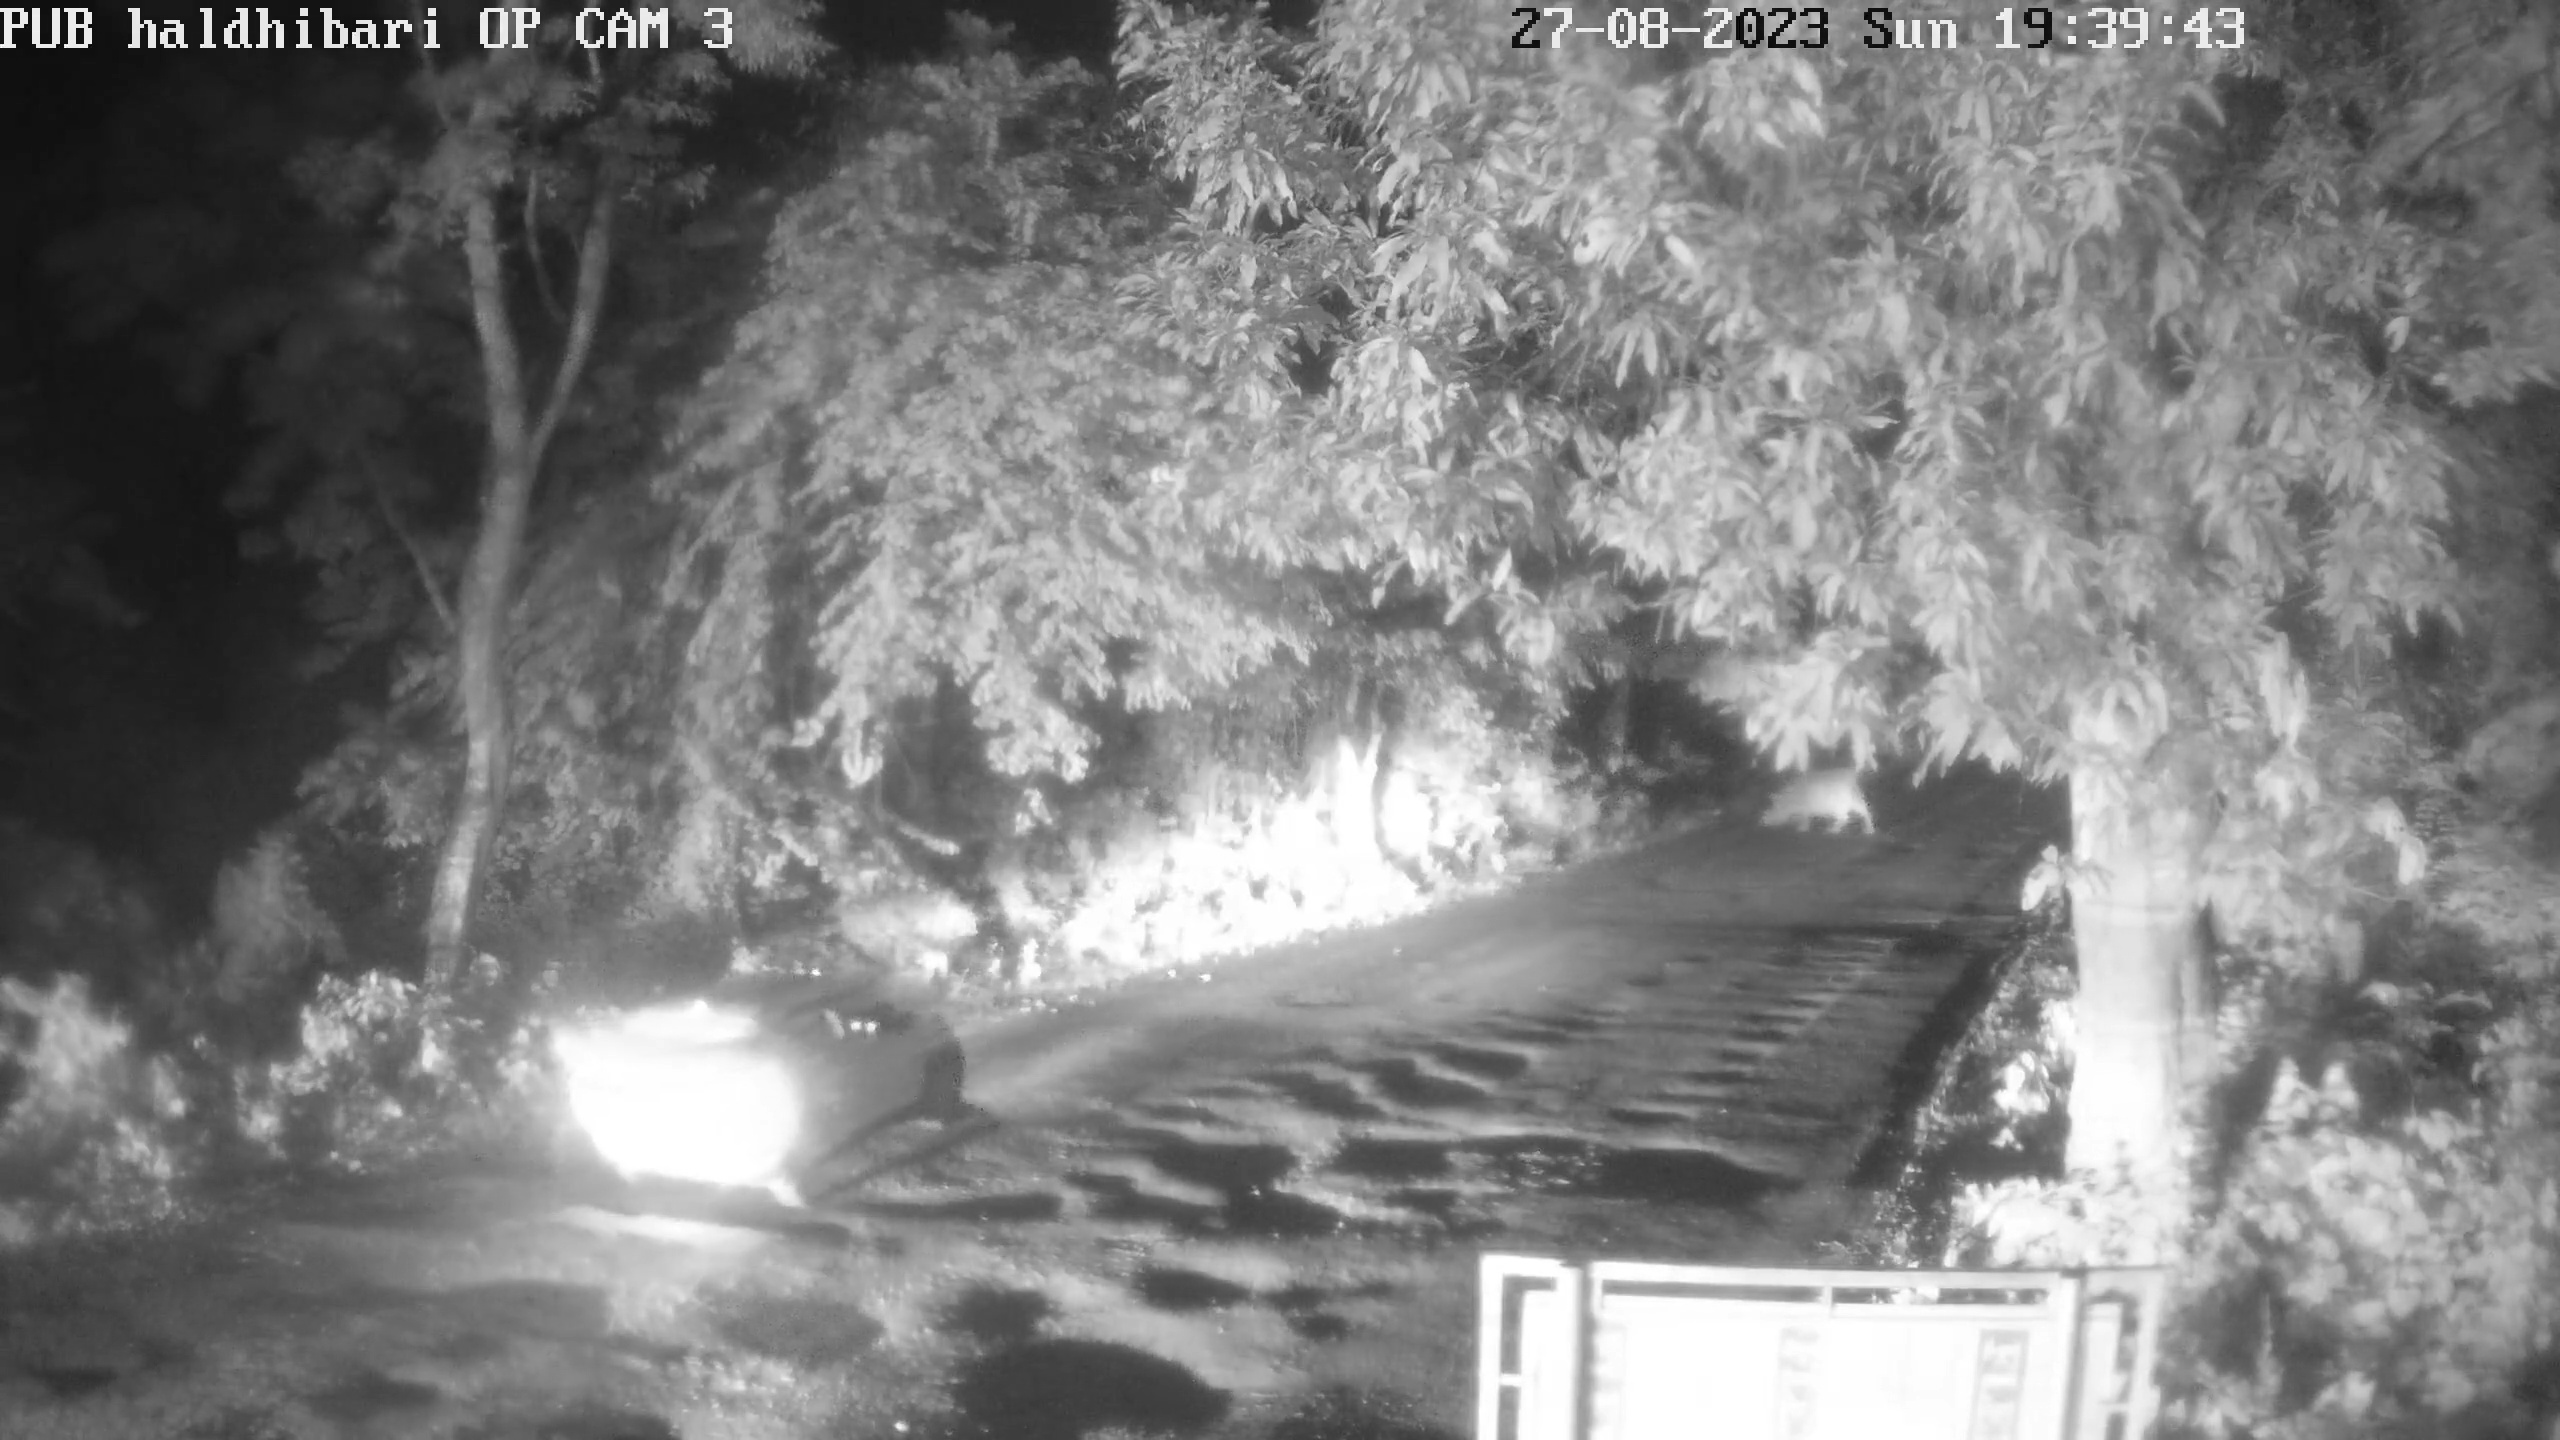rhinos: (1760, 775, 1873, 837)
